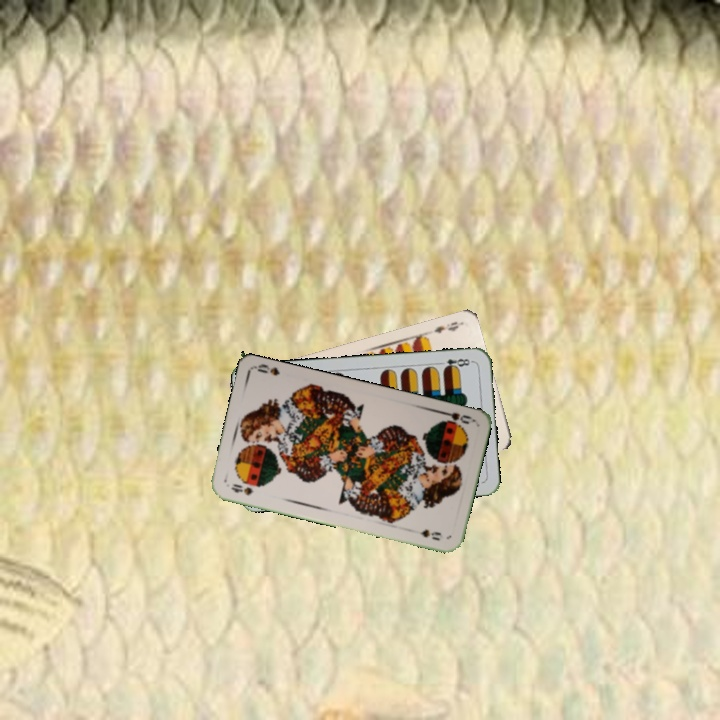E8: (434, 355, 475, 373)
E9: (430, 317, 464, 336)
SO: (436, 407, 476, 428), (227, 480, 256, 498)
